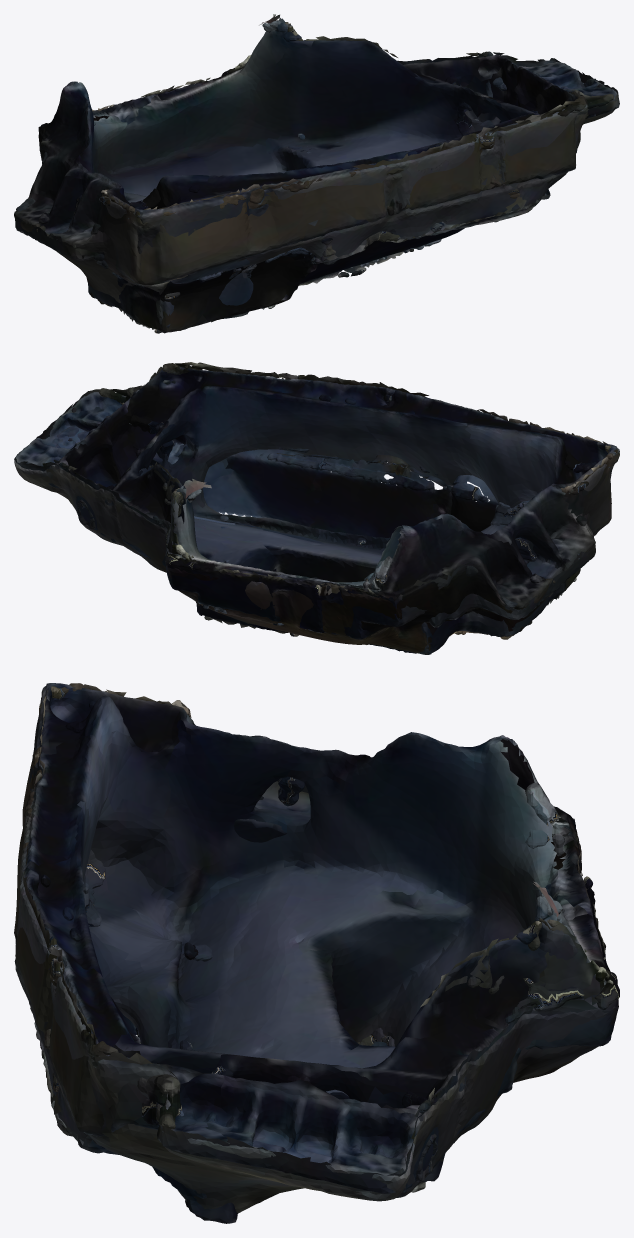
The picture shows the model from 3 angles, top to bottom: view 1: azimuth 30°, elevation 25°; view 2: azimuth 150°, elevation 25°; view 3: azimuth 270°, elevation 25°; orthographic projection. The views are drawn at different scales.
Bounding box in the file's own units: 429 × 142 × 261.
Materials: 2 (2 with a texture image).
